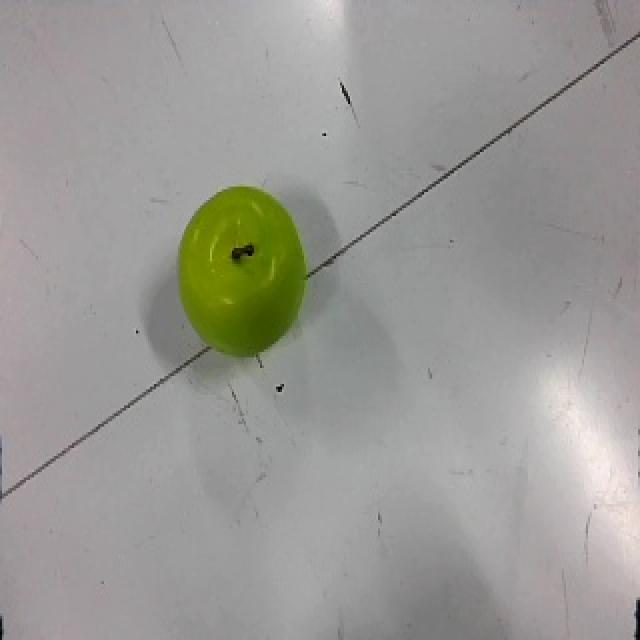apple: (178, 183, 316, 360)
